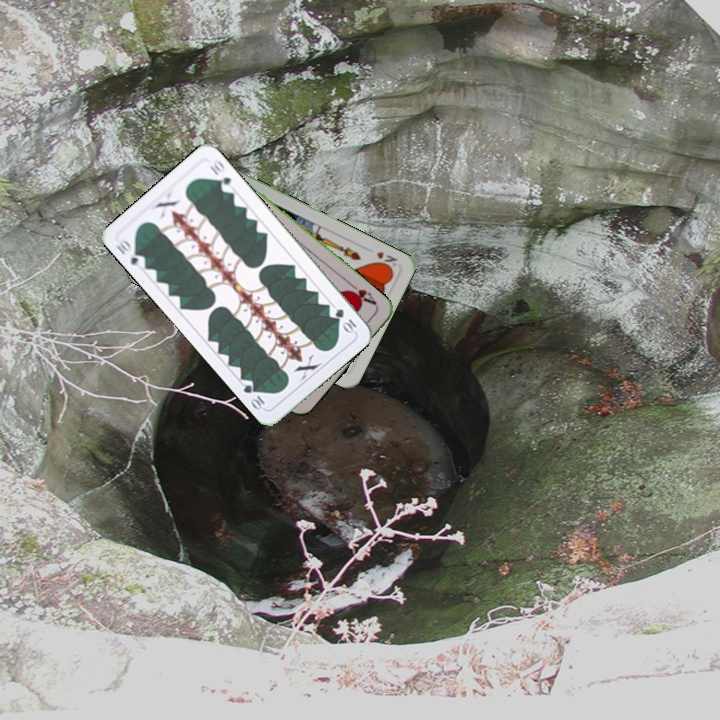G10: (112, 236, 148, 271), (331, 304, 359, 336)
HA: (342, 279, 380, 309)
HK: (372, 247, 401, 273)
